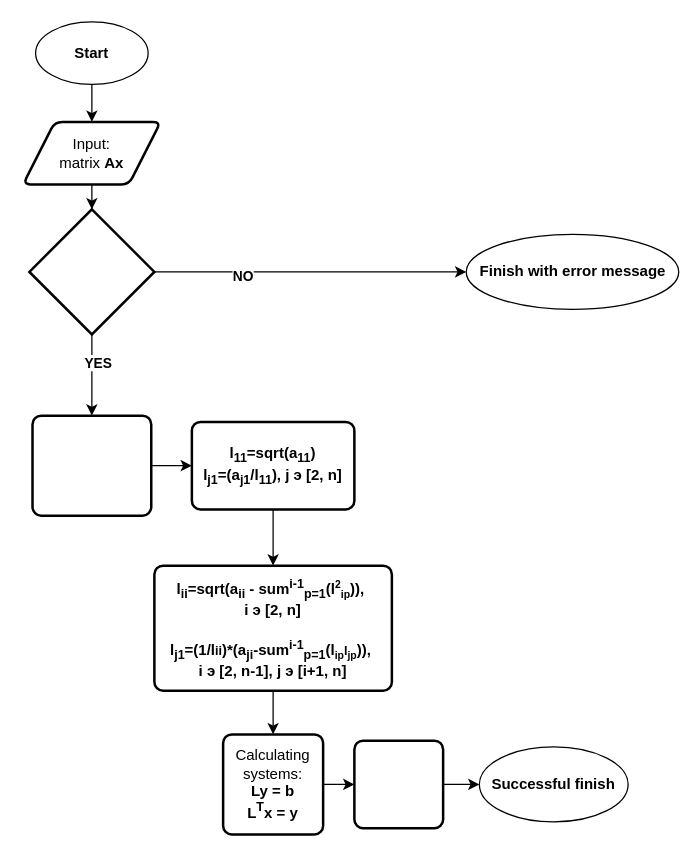
Image size: 700x858. Some labels were removed from this diagram. The shapes that lost their labels are listed below. From the top down, each one's centre as x and y in pixels, then its label:
At (x=91, y=271): "Is matrix A symmetric and positive?".
At (x=91, y=465): "A = LL T => create matrix L".
At (x=398, y=784): "result: x, y".
